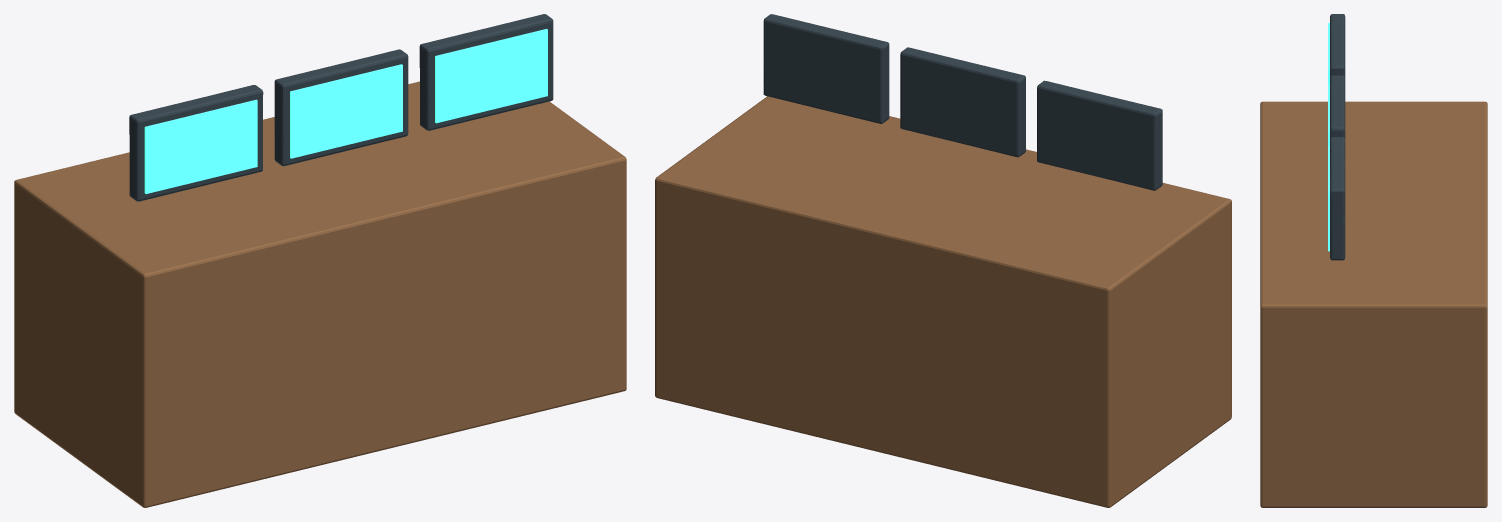
The model's file is CC_S16_P2_Expansion_Server_OperationsDesk_LOD0.fbx.
The picture shows the model from 3 angles, left to right: view 1: azimuth 30°, elevation 25°; view 2: azimuth 150°, elevation 25°; view 3: azimuth 270°, elevation 25°; orthographic projection. The views are drawn at different scales.
Visible parts, largest first — view 1: CC_S16_P2_Expansion_Server_OperationsDesk_LOD0_Desk, CC_S16_P2_Expansion_Server_OperationsDesk_LOD0; view 2: CC_S16_P2_Expansion_Server_OperationsDesk_LOD0_Desk, CC_S16_P2_Expansion_Server_OperationsDesk_LOD0; view 3: CC_S16_P2_Expansion_Server_OperationsDesk_LOD0_Desk, CC_S16_P2_Expansion_Server_OperationsDesk_LOD0, CC_S16_P2_Expansion_Server_OperationsDesk_LOD0_Monitor_3_LOD.
Part boxes in pixels (left/top/right/bottom): CC_S16_P2_Expansion_Server_OperationsDesk_LOD0_Desk: left=14, top=81, right=626, bottom=507; CC_S16_P2_Expansion_Server_OperationsDesk_LOD0: left=129, top=14, right=553, bottom=201; CC_S16_P2_Expansion_Server_OperationsDesk_LOD0_Desk: left=655, top=96, right=1231, bottom=507; CC_S16_P2_Expansion_Server_OperationsDesk_LOD0: left=763, top=14, right=1162, bottom=190; CC_S16_P2_Expansion_Server_OperationsDesk_LOD0_Desk: left=1260, top=101, right=1487, bottom=507; CC_S16_P2_Expansion_Server_OperationsDesk_LOD0: left=1328, top=14, right=1345, bottom=260; CC_S16_P2_Expansion_Server_OperationsDesk_LOD0_Monitor_3_LOD: left=1330, top=137, right=1345, bottom=259.
Size of what is drawn, in the model's own units: 1.6 by 1.11 by 0.75.
